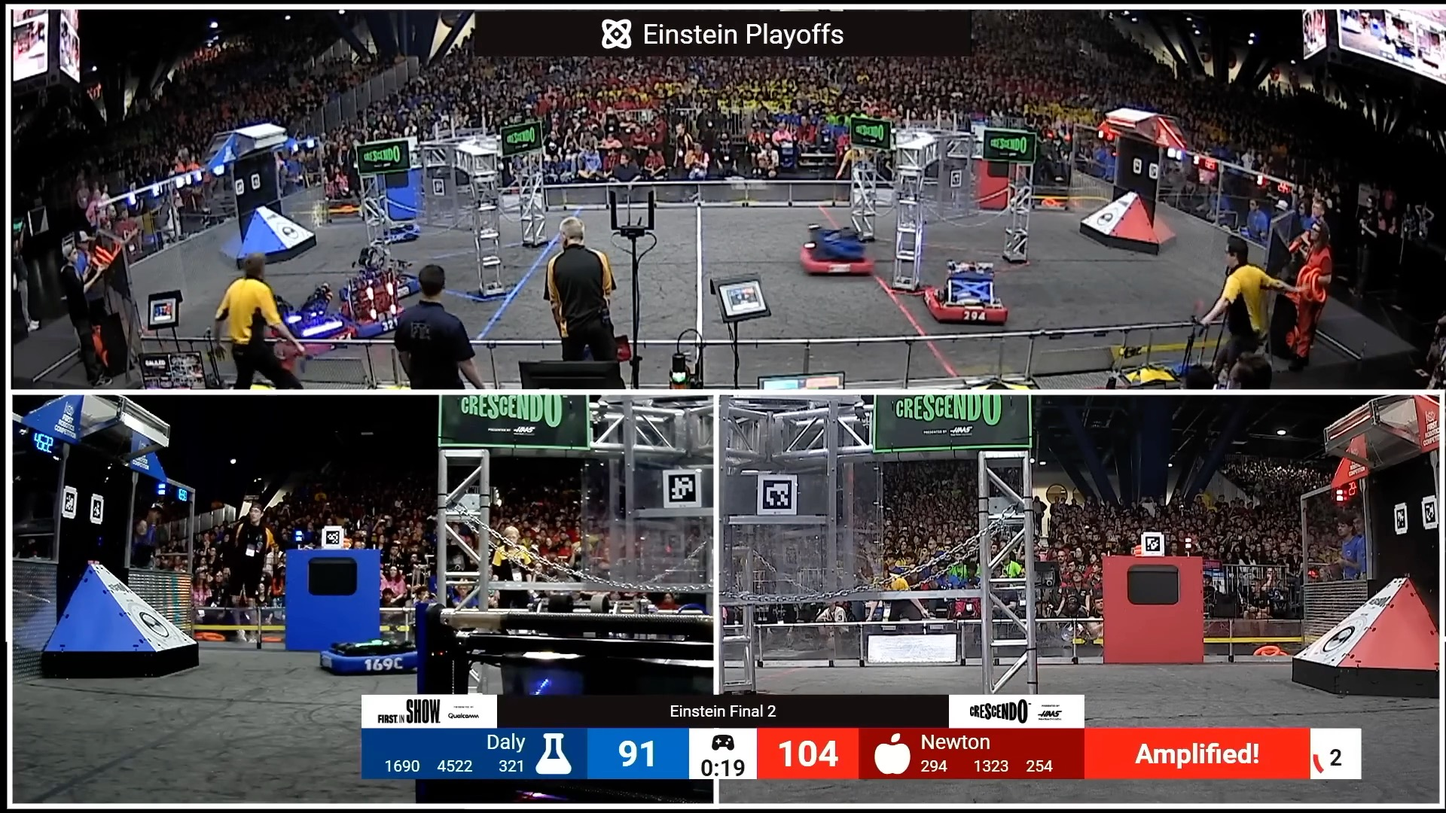bumpers: (310, 637, 440, 679), (921, 282, 1015, 330), (268, 313, 365, 358), (791, 238, 882, 284), (334, 301, 417, 348), (368, 268, 428, 300), (364, 218, 432, 246)
